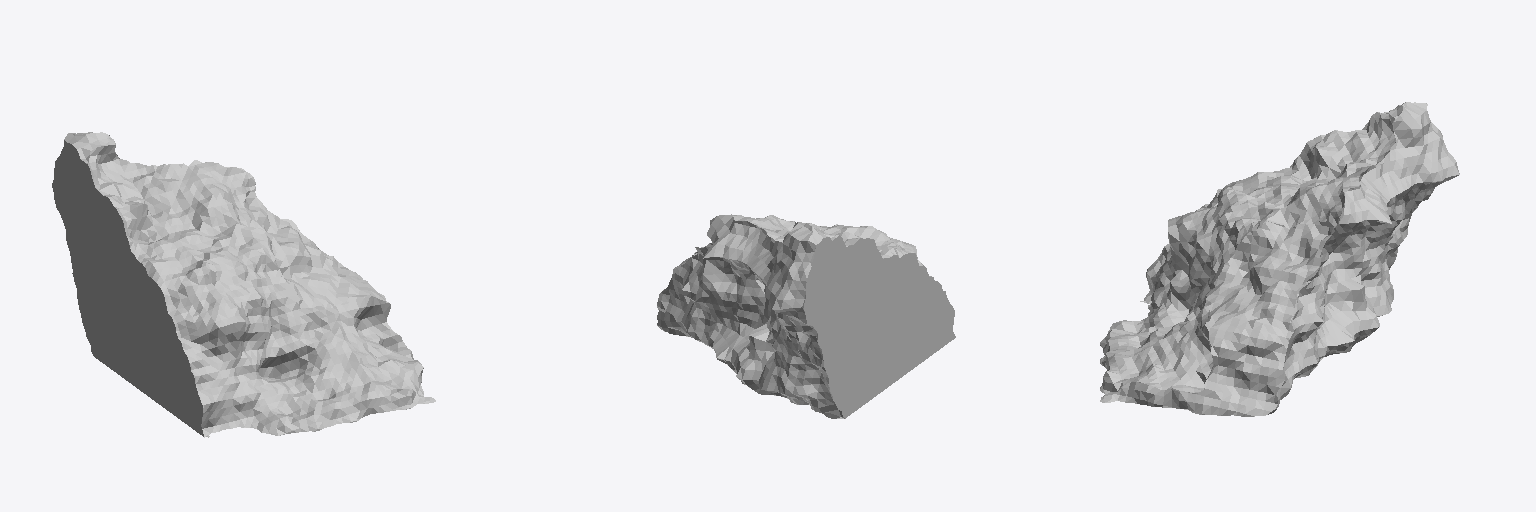
Rendered from cube_20_seed_4_shard.019.obj.
The picture shows the model from 3 angles: view 1: azimuth 30°, elevation 25°; view 2: azimuth 150°, elevation 25°; view 3: azimuth 270°, elevation 25°; orthographic projection.
Visible parts, largest first — view 1: Cube_shard.019_Cube_shard.159; view 2: Cube_shard.019_Cube_shard.159; view 3: Cube_shard.019_Cube_shard.159.
Boxes of the visible parts, <box> form: Cube_shard.019_Cube_shard.159: <box>52,132,435,437</box>; Cube_shard.019_Cube_shard.159: <box>657,214,955,418</box>; Cube_shard.019_Cube_shard.159: <box>1100,102,1459,416</box>.
Bounding box in the file's own units: 1.3 × 1.06 × 1.68.